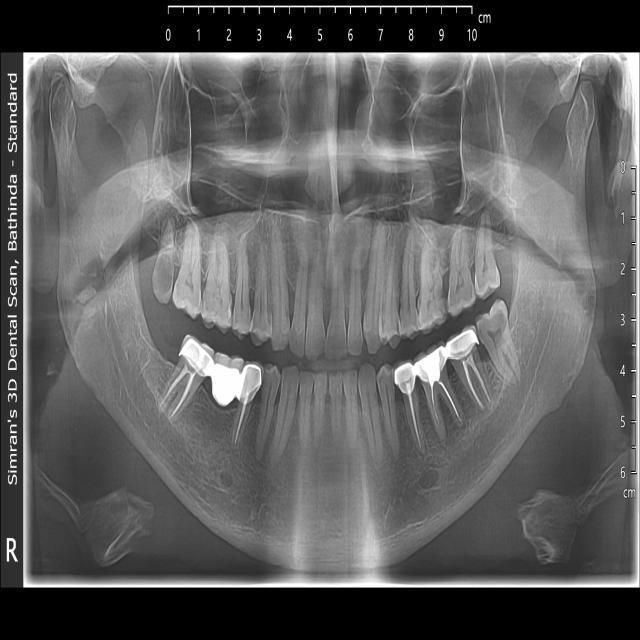dentin-curugu: (147, 250, 176, 301)
kanal-tedavisi: (158, 370, 196, 417), (459, 362, 494, 413), (428, 380, 461, 432), (403, 391, 425, 445), (231, 402, 250, 446)
kaplama: (177, 332, 216, 376), (443, 325, 481, 358), (412, 350, 447, 382), (239, 362, 262, 404), (395, 363, 418, 392)
kopru: (202, 356, 252, 409)
